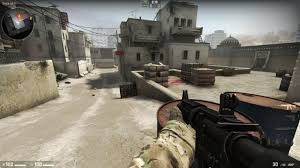gun: (175, 88, 299, 166)
